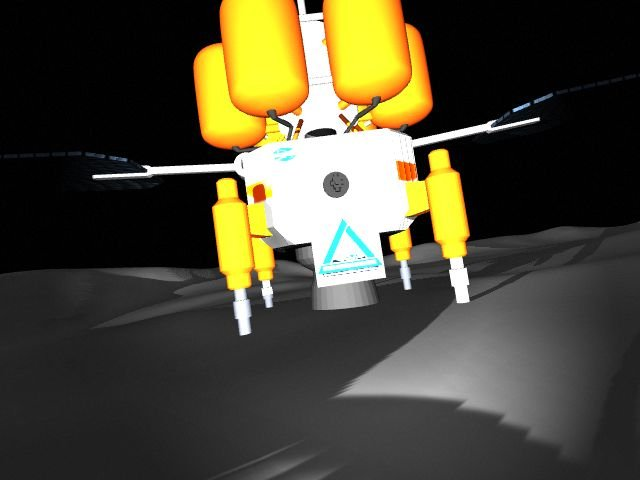basemarker: (318, 216, 384, 276)
